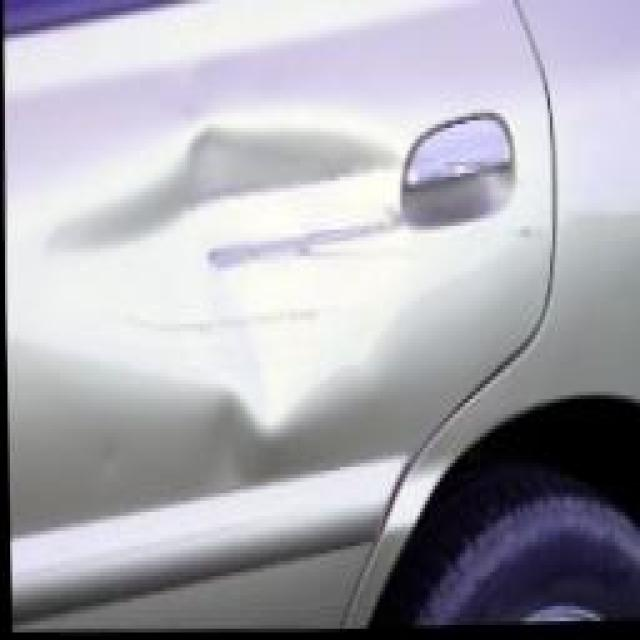Door: (9, 59, 554, 472)
